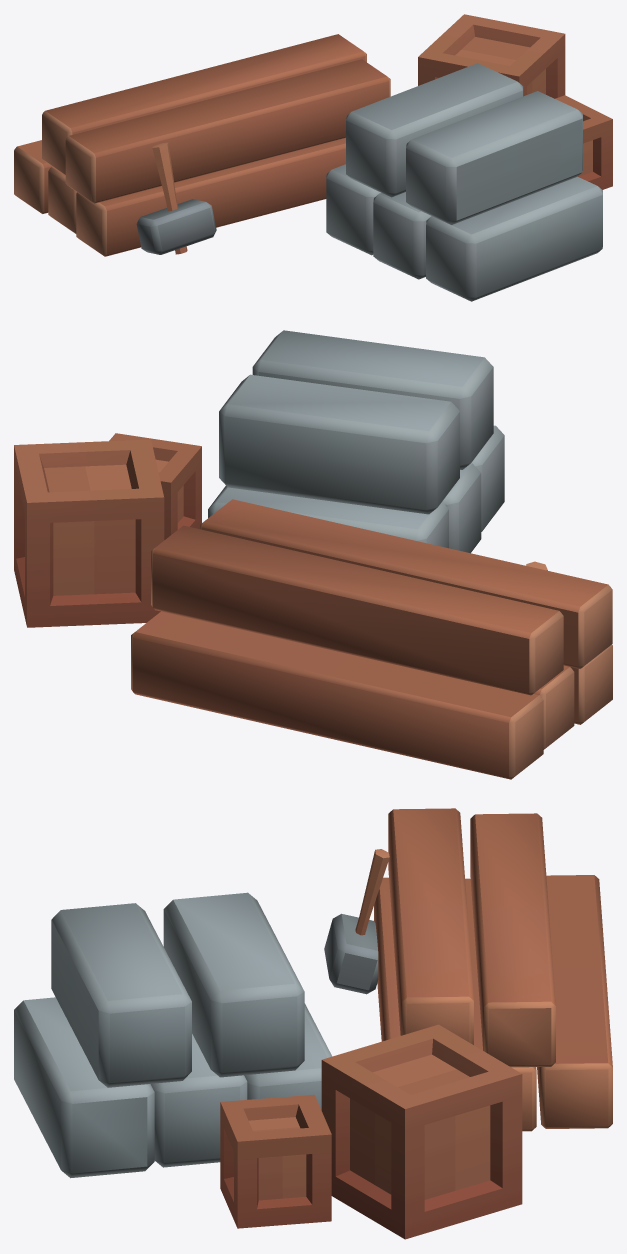
Rendered from kay-obra-alicerce.gltf.
3 views of the same model, one above another, from view 1: azimuth 30°, elevation 25°; view 2: azimuth 150°, elevation 25°; view 3: azimuth 270°, elevation 25° (orthographic). The views are drawn at different scales.
Visible parts, largest first — view 1: building_stage_A; view 2: building_stage_A; view 3: building_stage_A.
Part boxes in pixels (<box>): building_stage_A: <box>14,14,612,301</box>; building_stage_A: <box>14,330,612,779</box>; building_stage_A: <box>14,808,612,1239</box>.
Size of the model in its own units: 5.23 by 1.43 by 4.37.
Materials: 1 (1 with a texture image).
